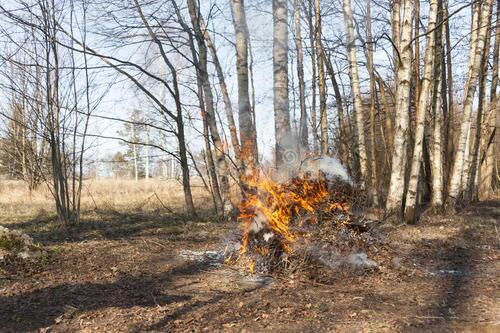fire: (239, 176, 329, 245)
smoke: (83, 52, 210, 186), (255, 121, 355, 175)
